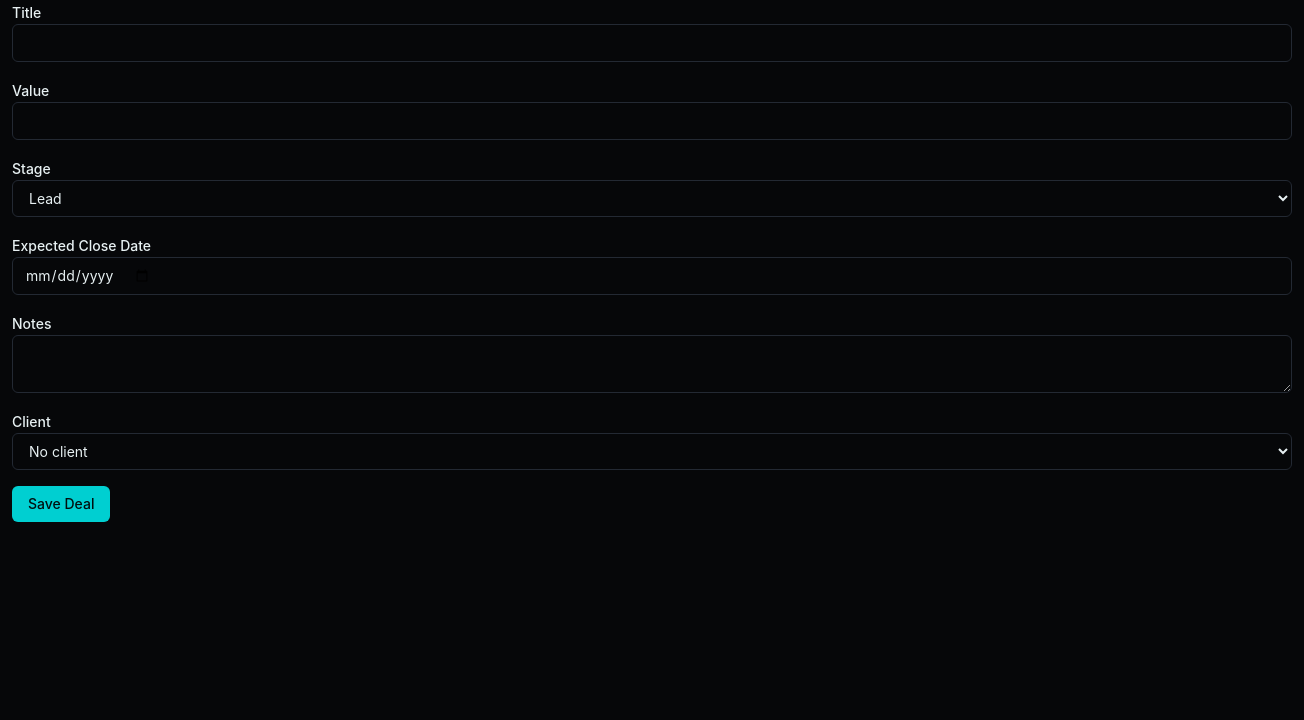
DealForm › should validate title is required
Click the button "Save Deal" at (61, 504), box [12,486,110,522]
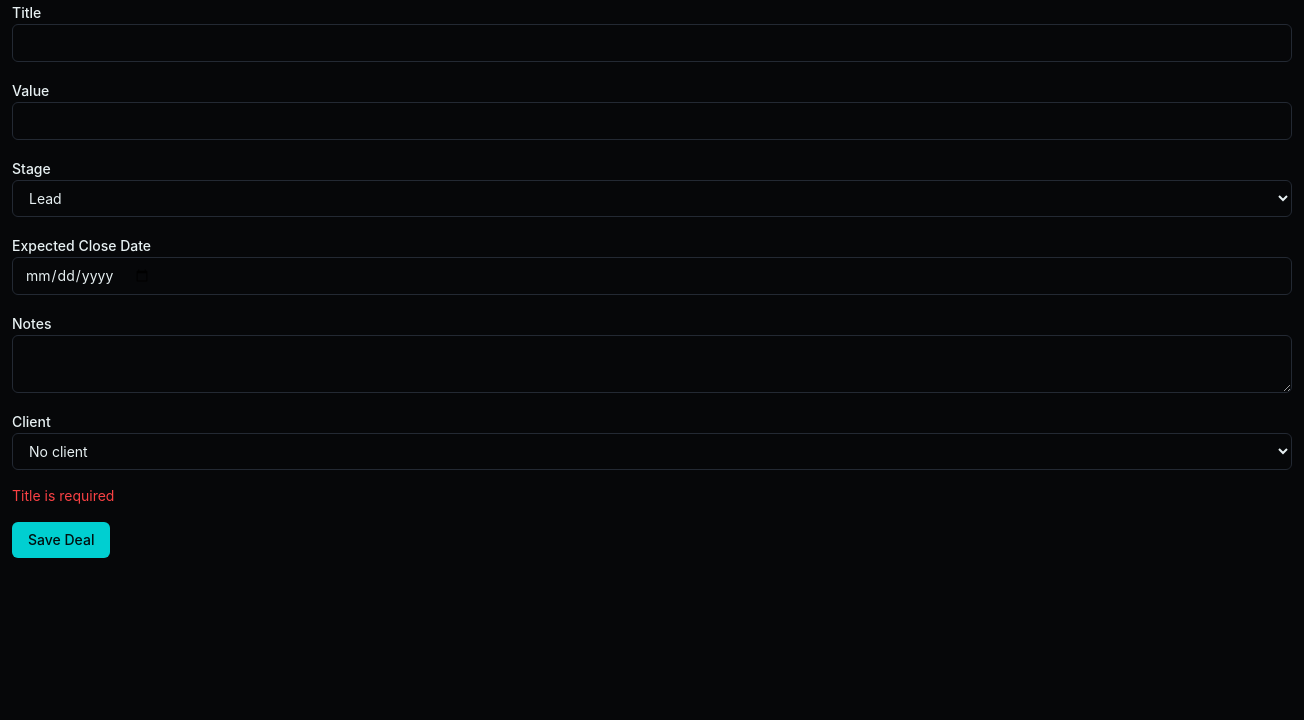
Expected: the text "Title is required" is shown, [12,487,114,504]
